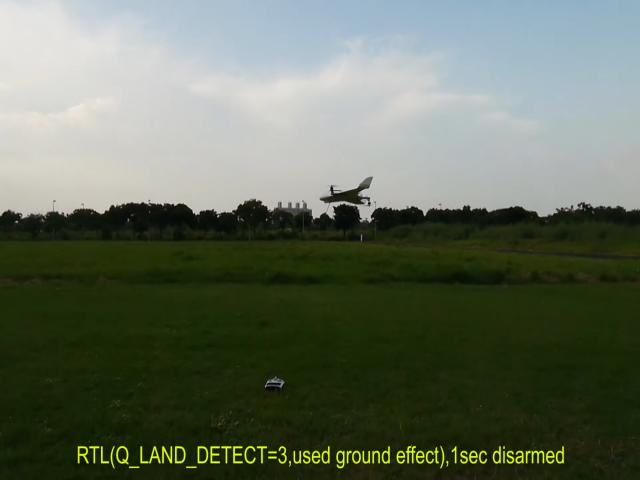plane: (321, 175, 373, 208)
